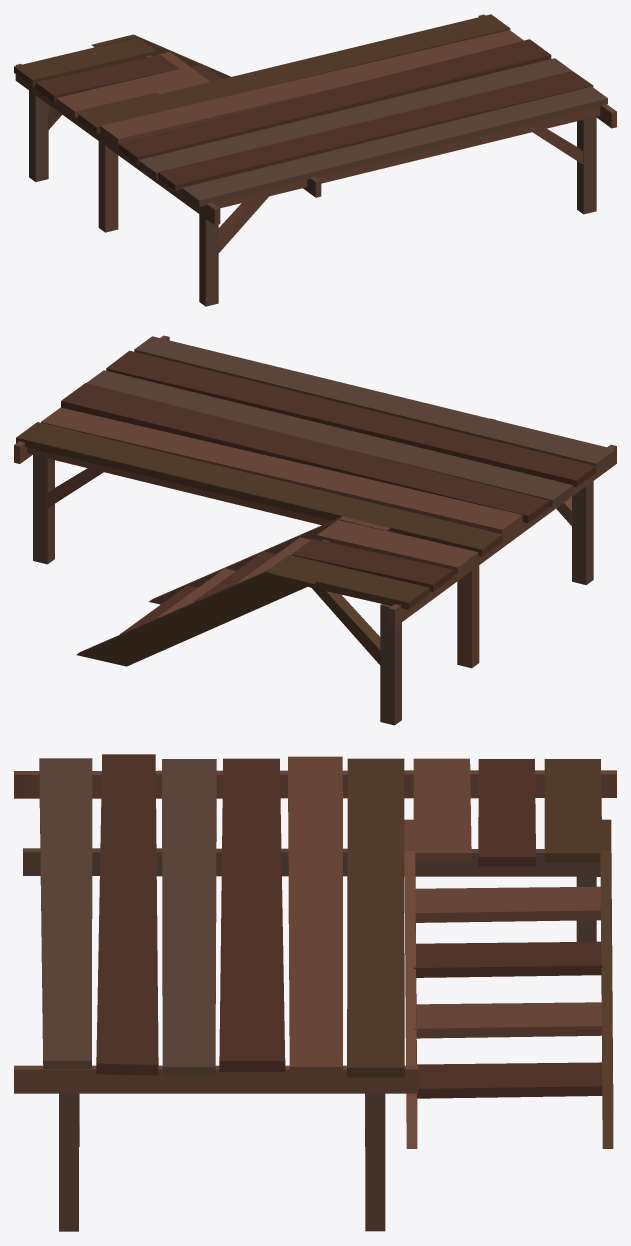
File: Street Scaffold.glb
The picture shows the model from 3 angles, top to bottom: view 1: azimuth 30°, elevation 25°; view 2: azimuth 150°, elevation 25°; view 3: azimuth 270°, elevation 25°; orthographic projection. The views are drawn at different scales.
Parts seen in each view (by area): view 1: Street scaffold; view 2: Street scaffold; view 3: Street scaffold.
Part boxes in pixels (<box>): Street scaffold: <box>14,14,616,306</box>; Street scaffold: <box>14,335,616,725</box>; Street scaffold: <box>14,754,616,1231</box>.
Size of what is drawn, in the model's own units: 4.73 by 1.27 by 3.89.
1 material, 1 textured.
